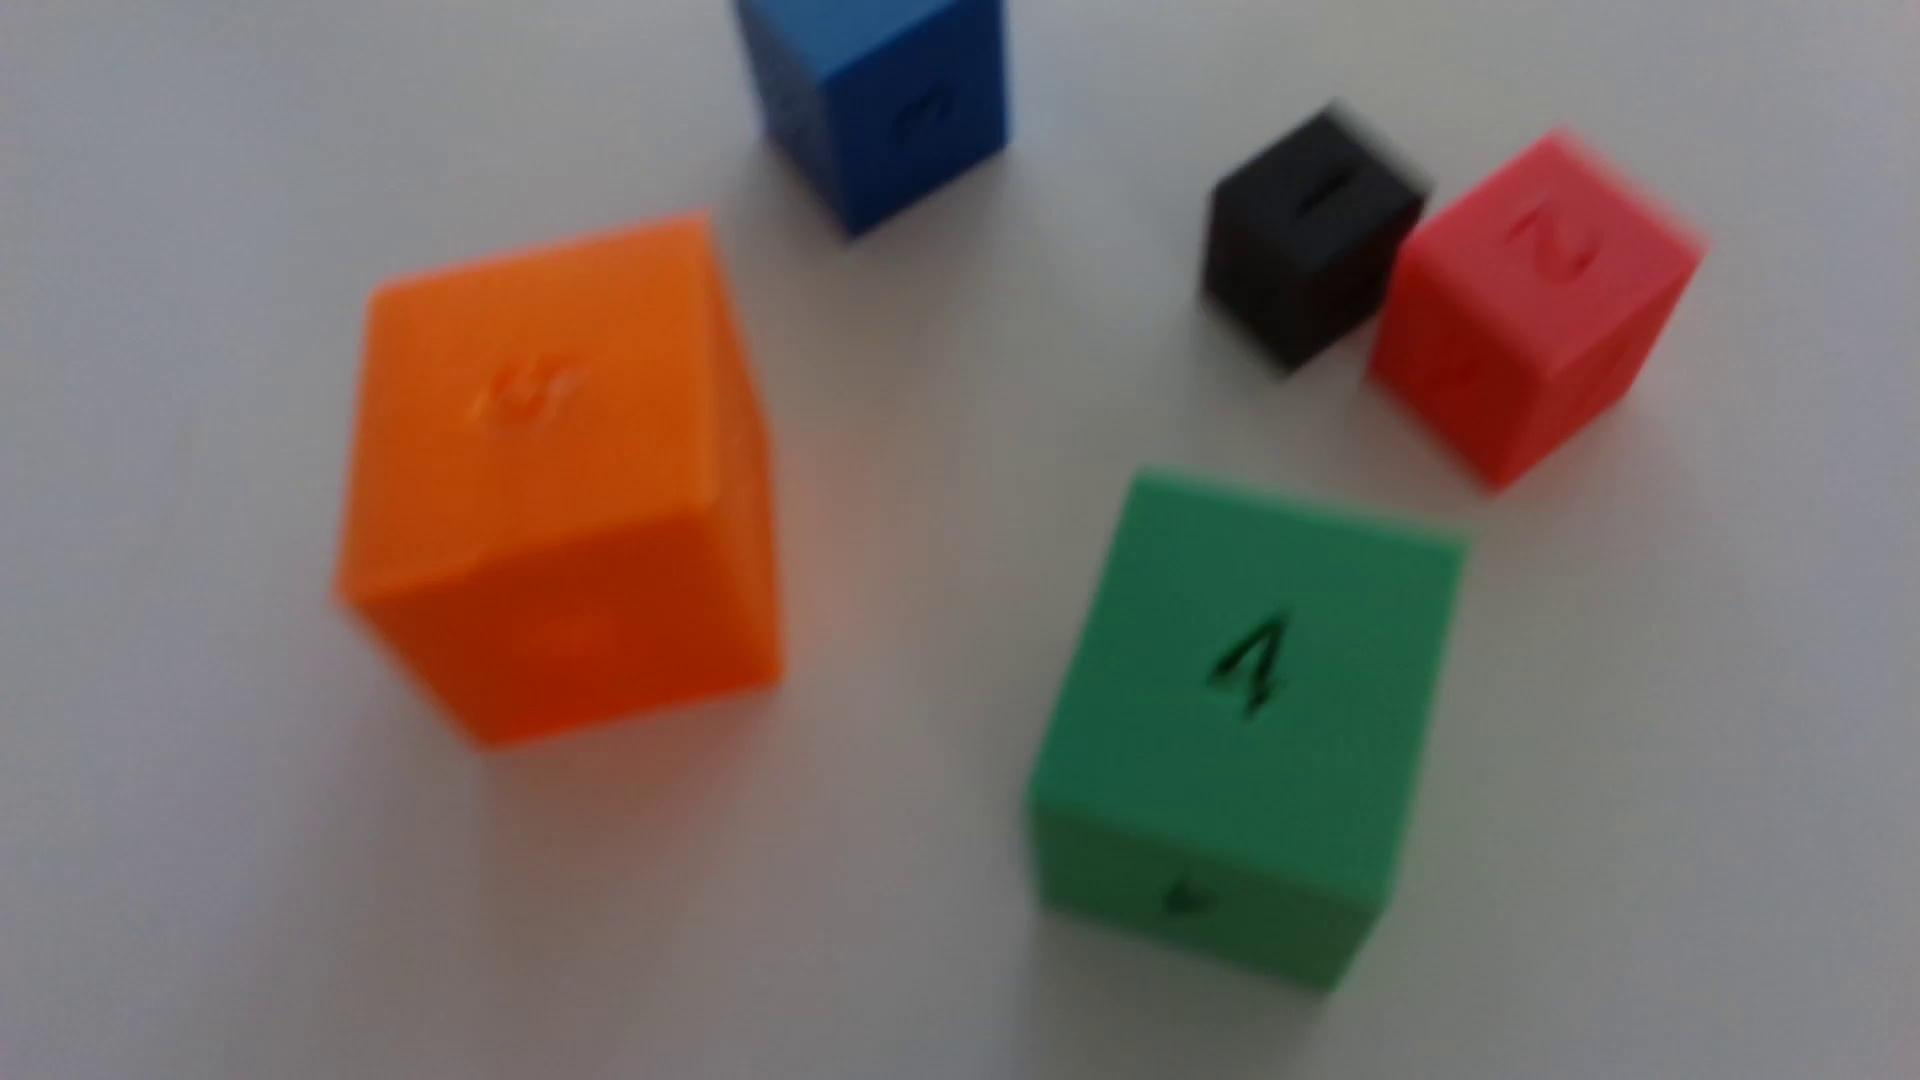black: (1200, 108, 1427, 375)
blue: (733, 0, 1009, 237)
green: (1027, 472, 1466, 992)
orange: (336, 218, 783, 748)
red: (1369, 136, 1702, 492)
